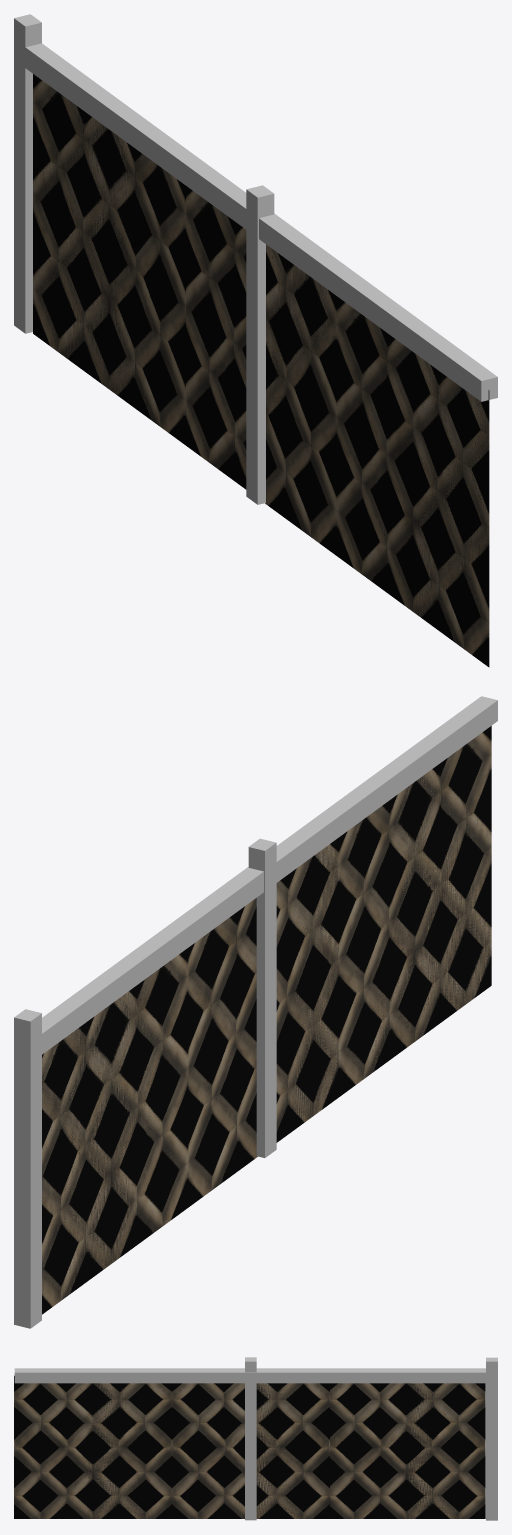
Rendered from fench.FBX.
3 renders of one model, top to bottom at view 1: azimuth 30°, elevation 25°; view 2: azimuth 150°, elevation 25°; view 3: azimuth 270°, elevation 25°, orthographic. The views are drawn at different scales.
Parts seen in each view (by area): view 1: Box002; view 2: Box002; view 3: Box002.
Boxes of the visible parts, left/top/right/bottom form: Box002: left=14, top=14, right=497, bottom=667; Box002: left=14, top=696, right=497, bottom=1328; Box002: left=14, top=1357, right=497, bottom=1520.
Bounding box in the file's own units: 2.67 × 44.49 × 122.
